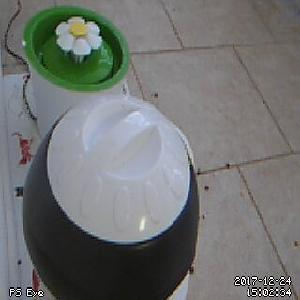fountain: (22, 6, 128, 93)
